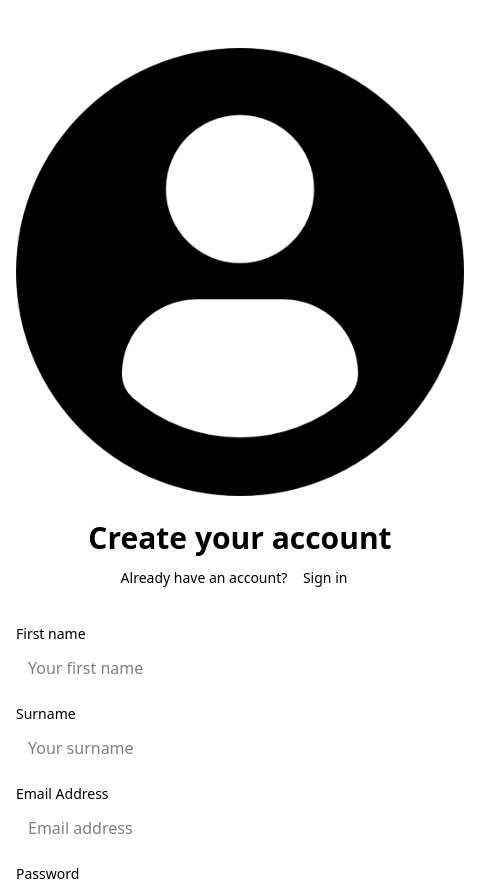
Test: Auth page: sign-up › offers Sign in / Reset password when the account already exists
The width and height of the screenshot is (481, 889).
In the field with id "first_name": (240, 668) [16, 648, 464, 688], type "Jo"
In the field labelled "Surname": (240, 748) [16, 728, 464, 768], type "Smith"
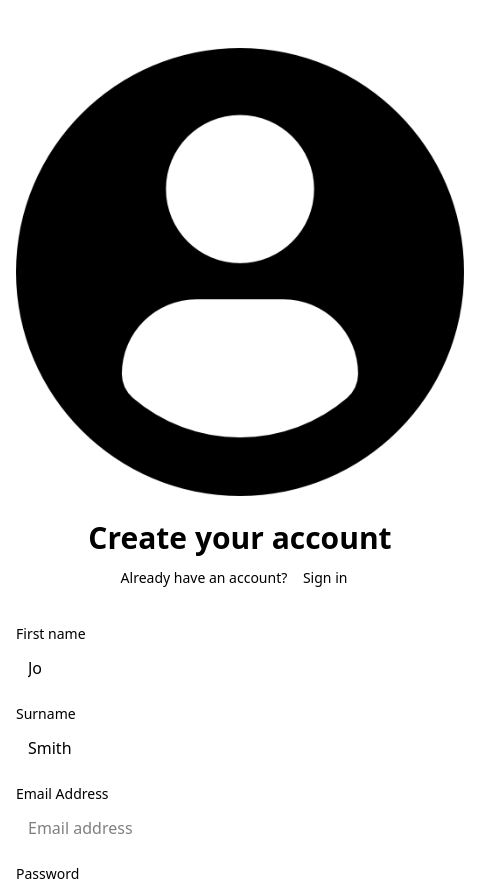
In the field with id "email": (240, 828) [16, 808, 464, 848], type "jo.smith@example.com"
(page scrolled)
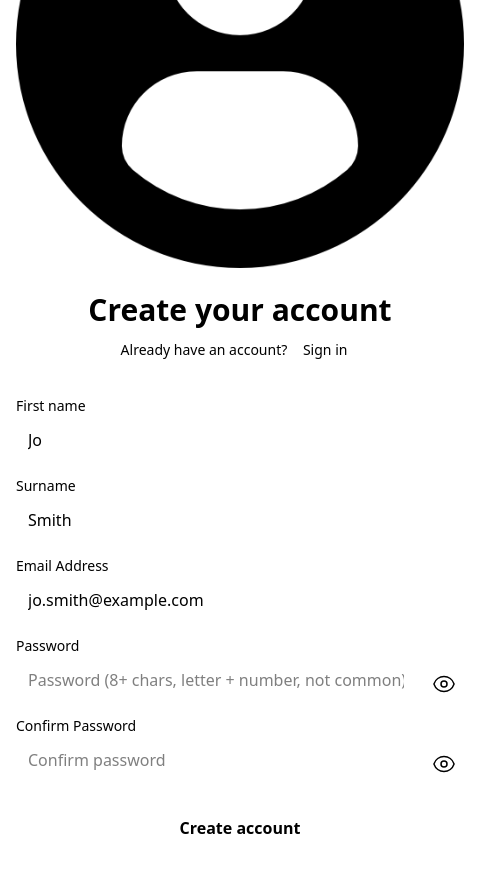
In the password field labelled "Password": (216, 680) [16, 660, 416, 700], type "Passw0rd!x"
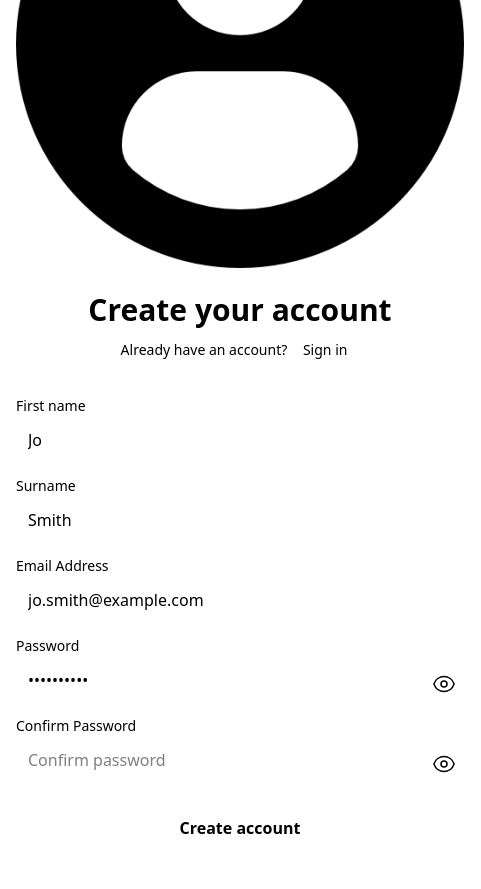
In the password field with id "confirmPassword": (216, 760) [16, 740, 416, 780], type "Passw0rd!x"
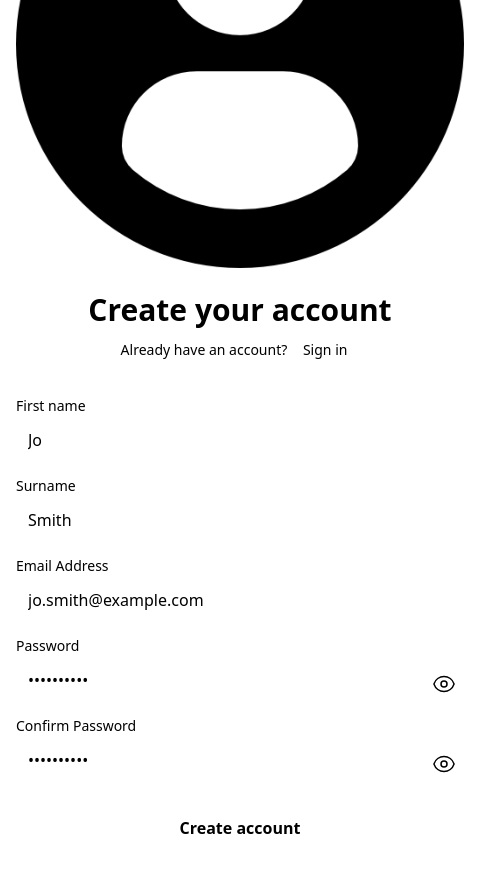
Submit the form, box [16, 396, 464, 852]
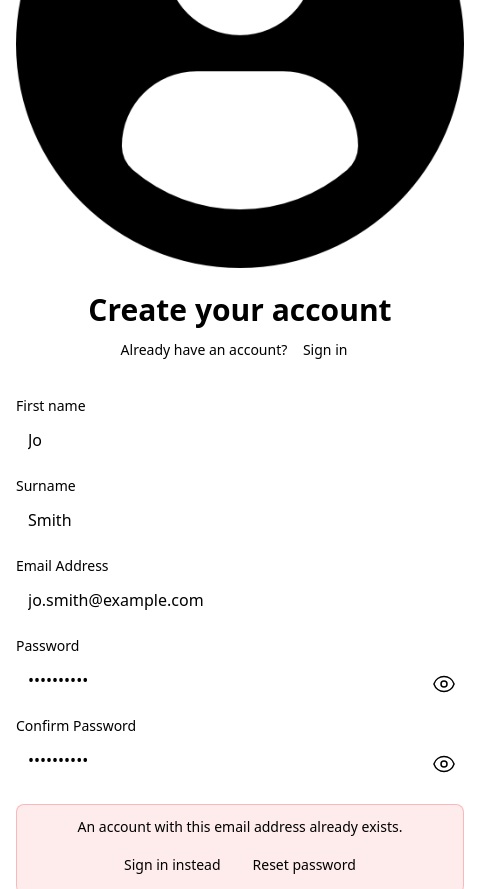
Now the message shows "already exists", box [78, 817, 402, 836]
Now the button "Reset password" is shown, box [241, 849, 368, 881]
Click the button "Sign in instead": (172, 865) [112, 849, 233, 881]
(page scrolled)
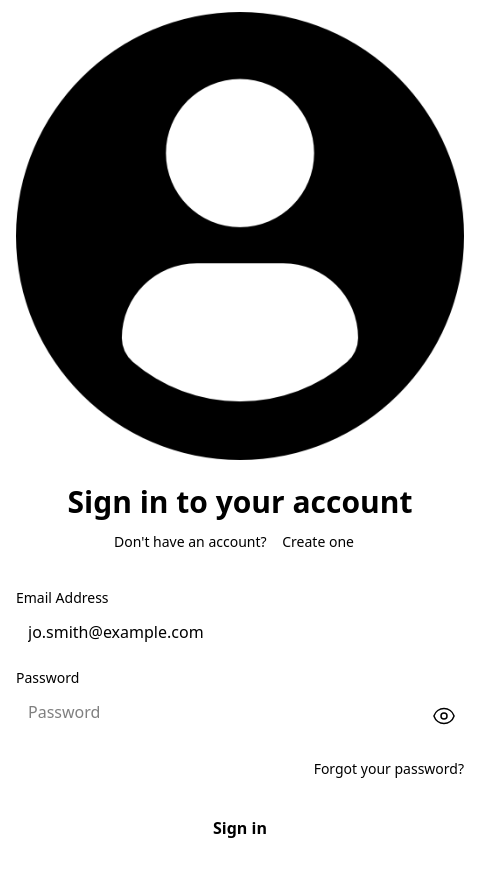
Now the heading "Sign in to your account" is shown, box [68, 481, 412, 522]
Now the label with id "first_name" is gone
